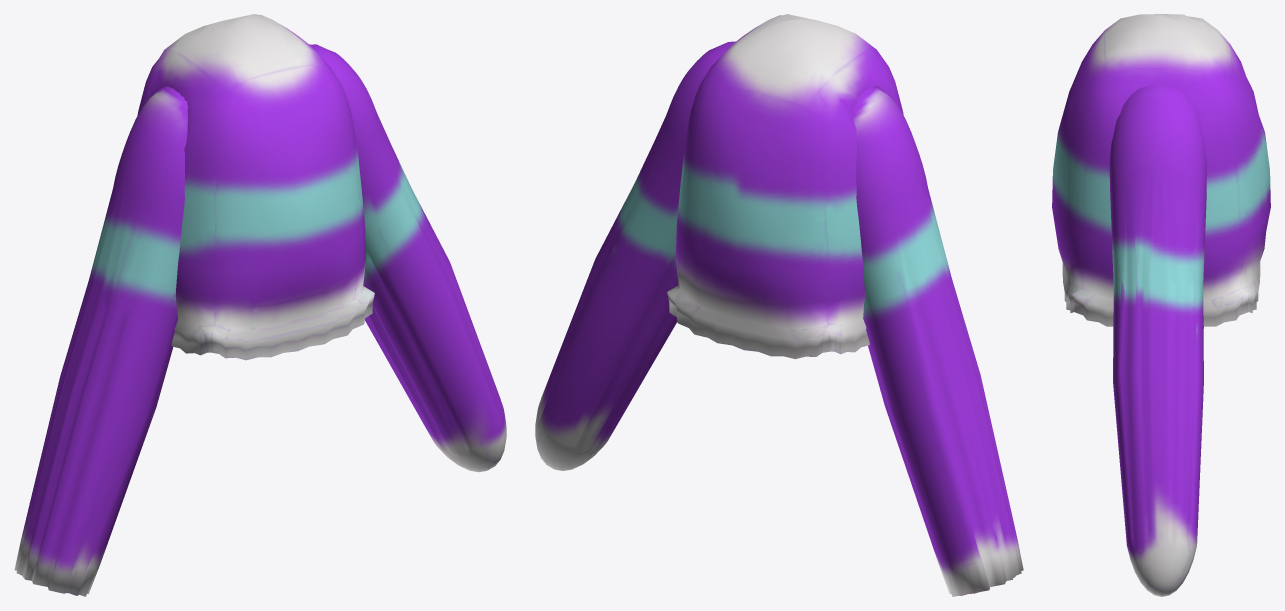
Rendered from item-sweater.glb.
3 views of the same model, side by side, from view 1: azimuth 30°, elevation 25°; view 2: azimuth 150°, elevation 25°; view 3: azimuth 270°, elevation 25° (orthographic). The views are drawn at different scales.
Size of the model in its own units: 11.67 by 12.29 by 4.96.
Materials: 1 (1 with a texture image).
